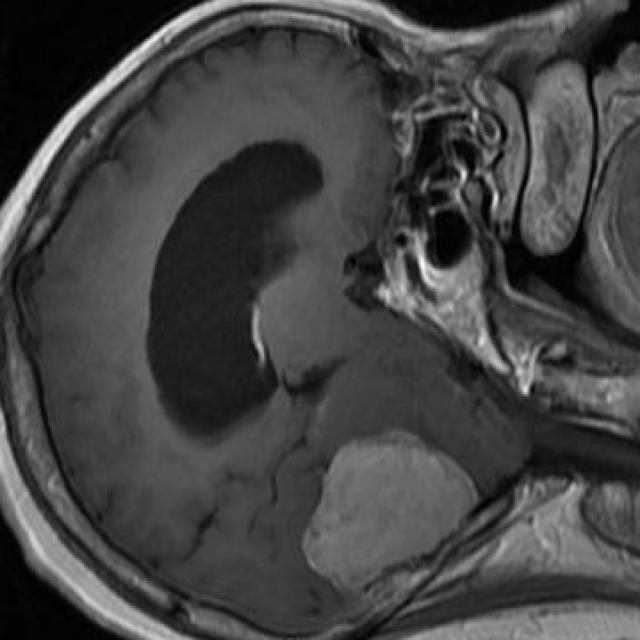meningioma: (301, 437, 478, 595)
